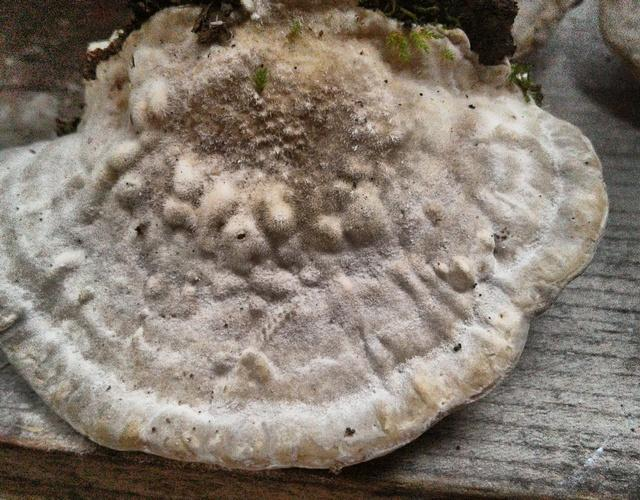poisonous_mushroom: (1, 1, 610, 474)
